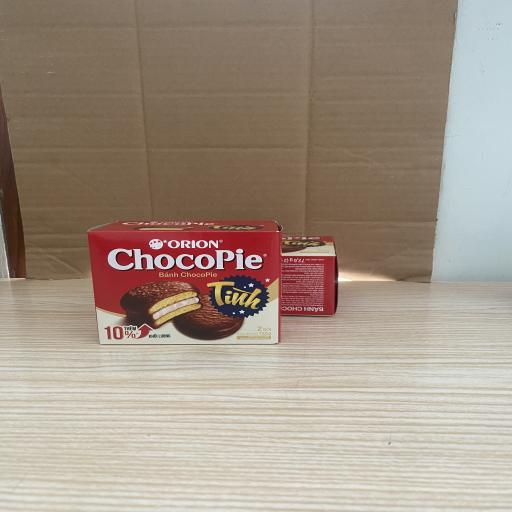chocopie: (88, 220, 283, 344), (281, 234, 337, 315)
